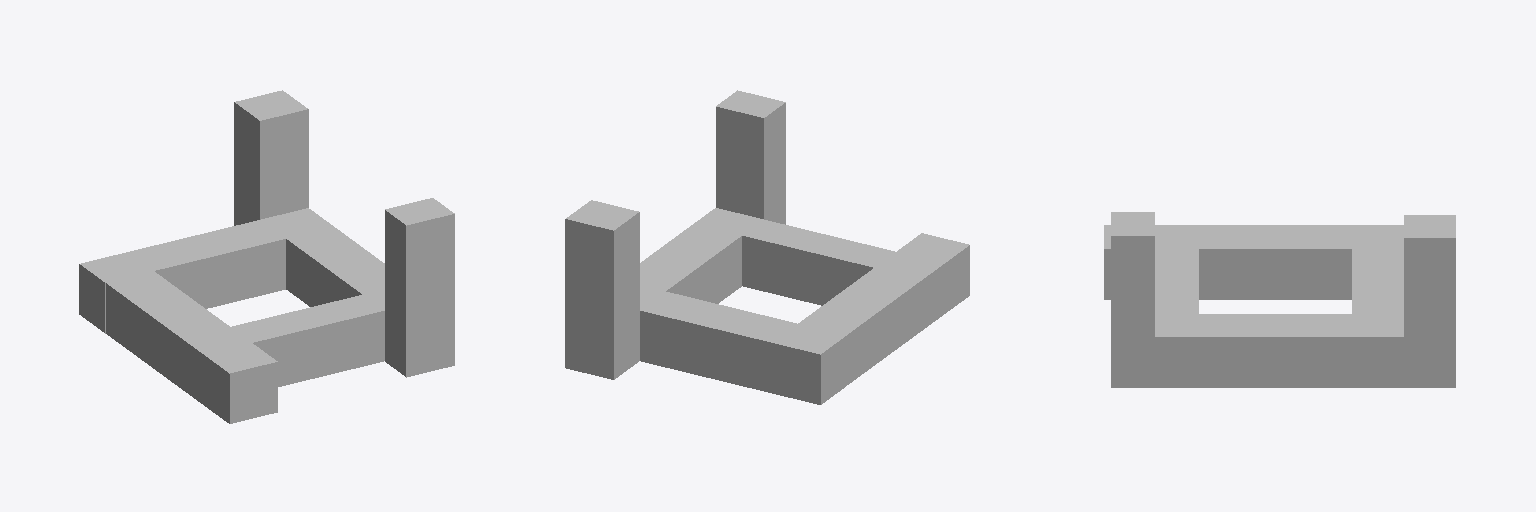
File: bridge.obj
The picture shows the model from 3 angles: view 1: azimuth 30°, elevation 25°; view 2: azimuth 150°, elevation 25°; view 3: azimuth 270°, elevation 25°; orthographic projection.
Parts seen in each view (by area): view 1: Cube; view 2: Cube; view 3: Cube.
Part boxes in pixels (bbox=[...]): Cube: bbox=[79, 90, 454, 423]; Cube: bbox=[565, 90, 969, 404]; Cube: bbox=[1104, 212, 1455, 387].
Bounding box in the file's own units: 9.46 × 5.99 × 12.57.